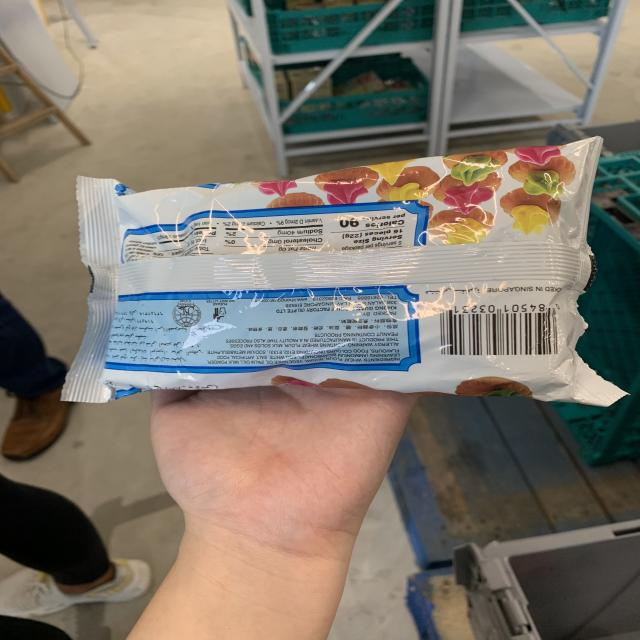object_name: (70, 159, 582, 400)
